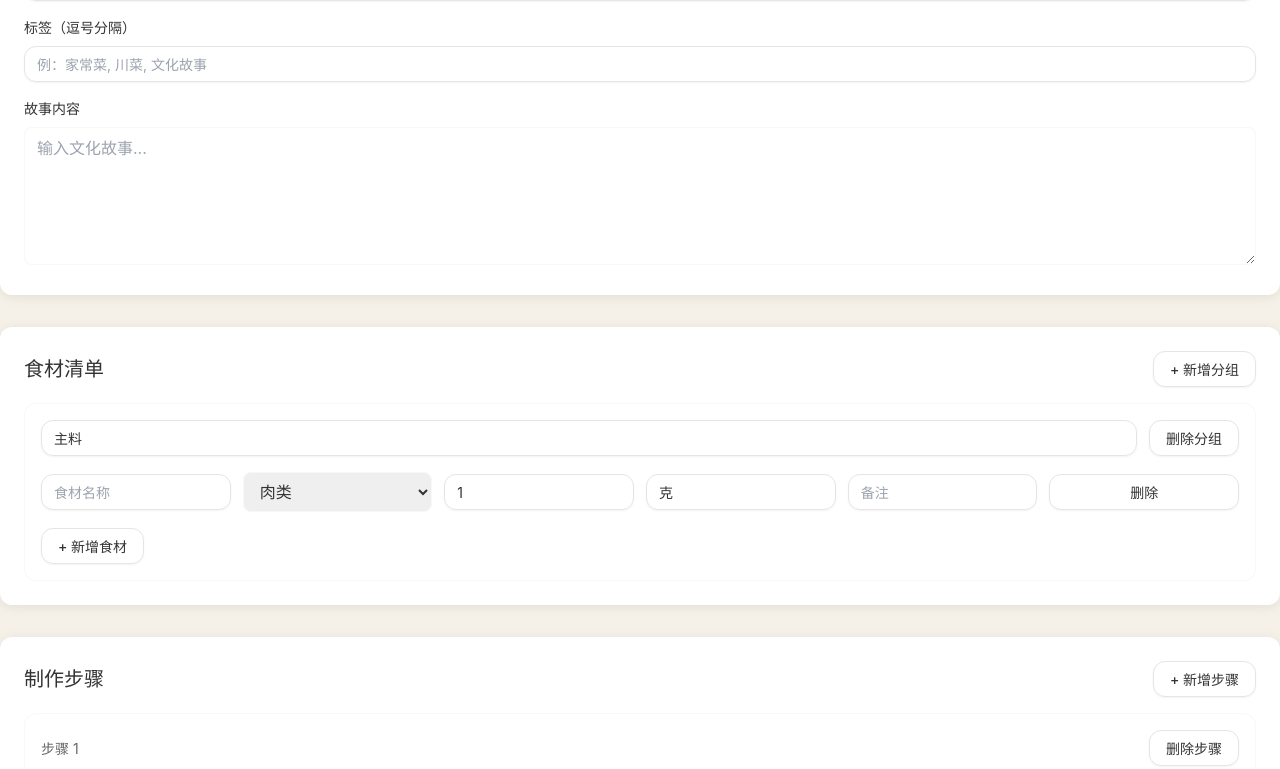
Test: RecipeForm › adds a new ingredient section
The image size is (1280, 769).
(page scrolled)
Click the button "+ 新增分组". click: (1204, 369)
box: [1153,351,1256,387]
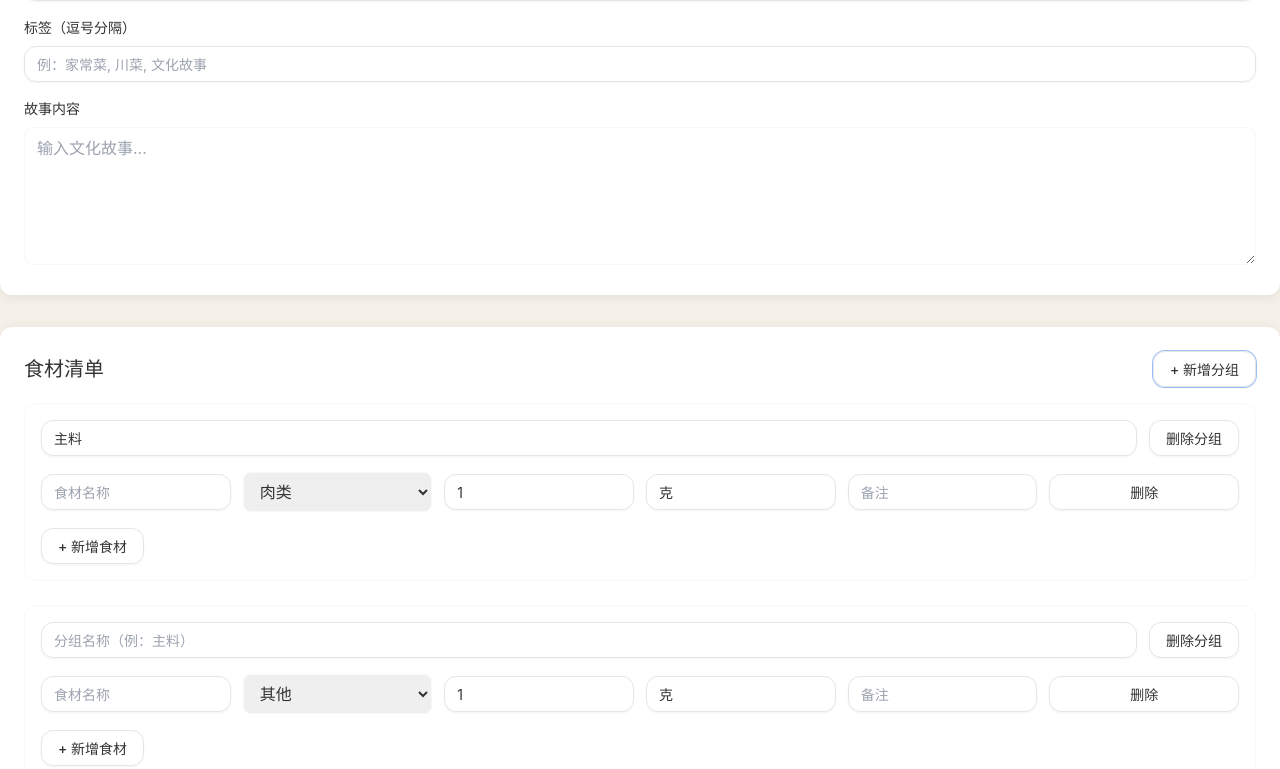
Now the number of fields with placeholder "分组名称（例：主料）" is 2, box [41,420,1137,456]; [41,622,1137,658]
